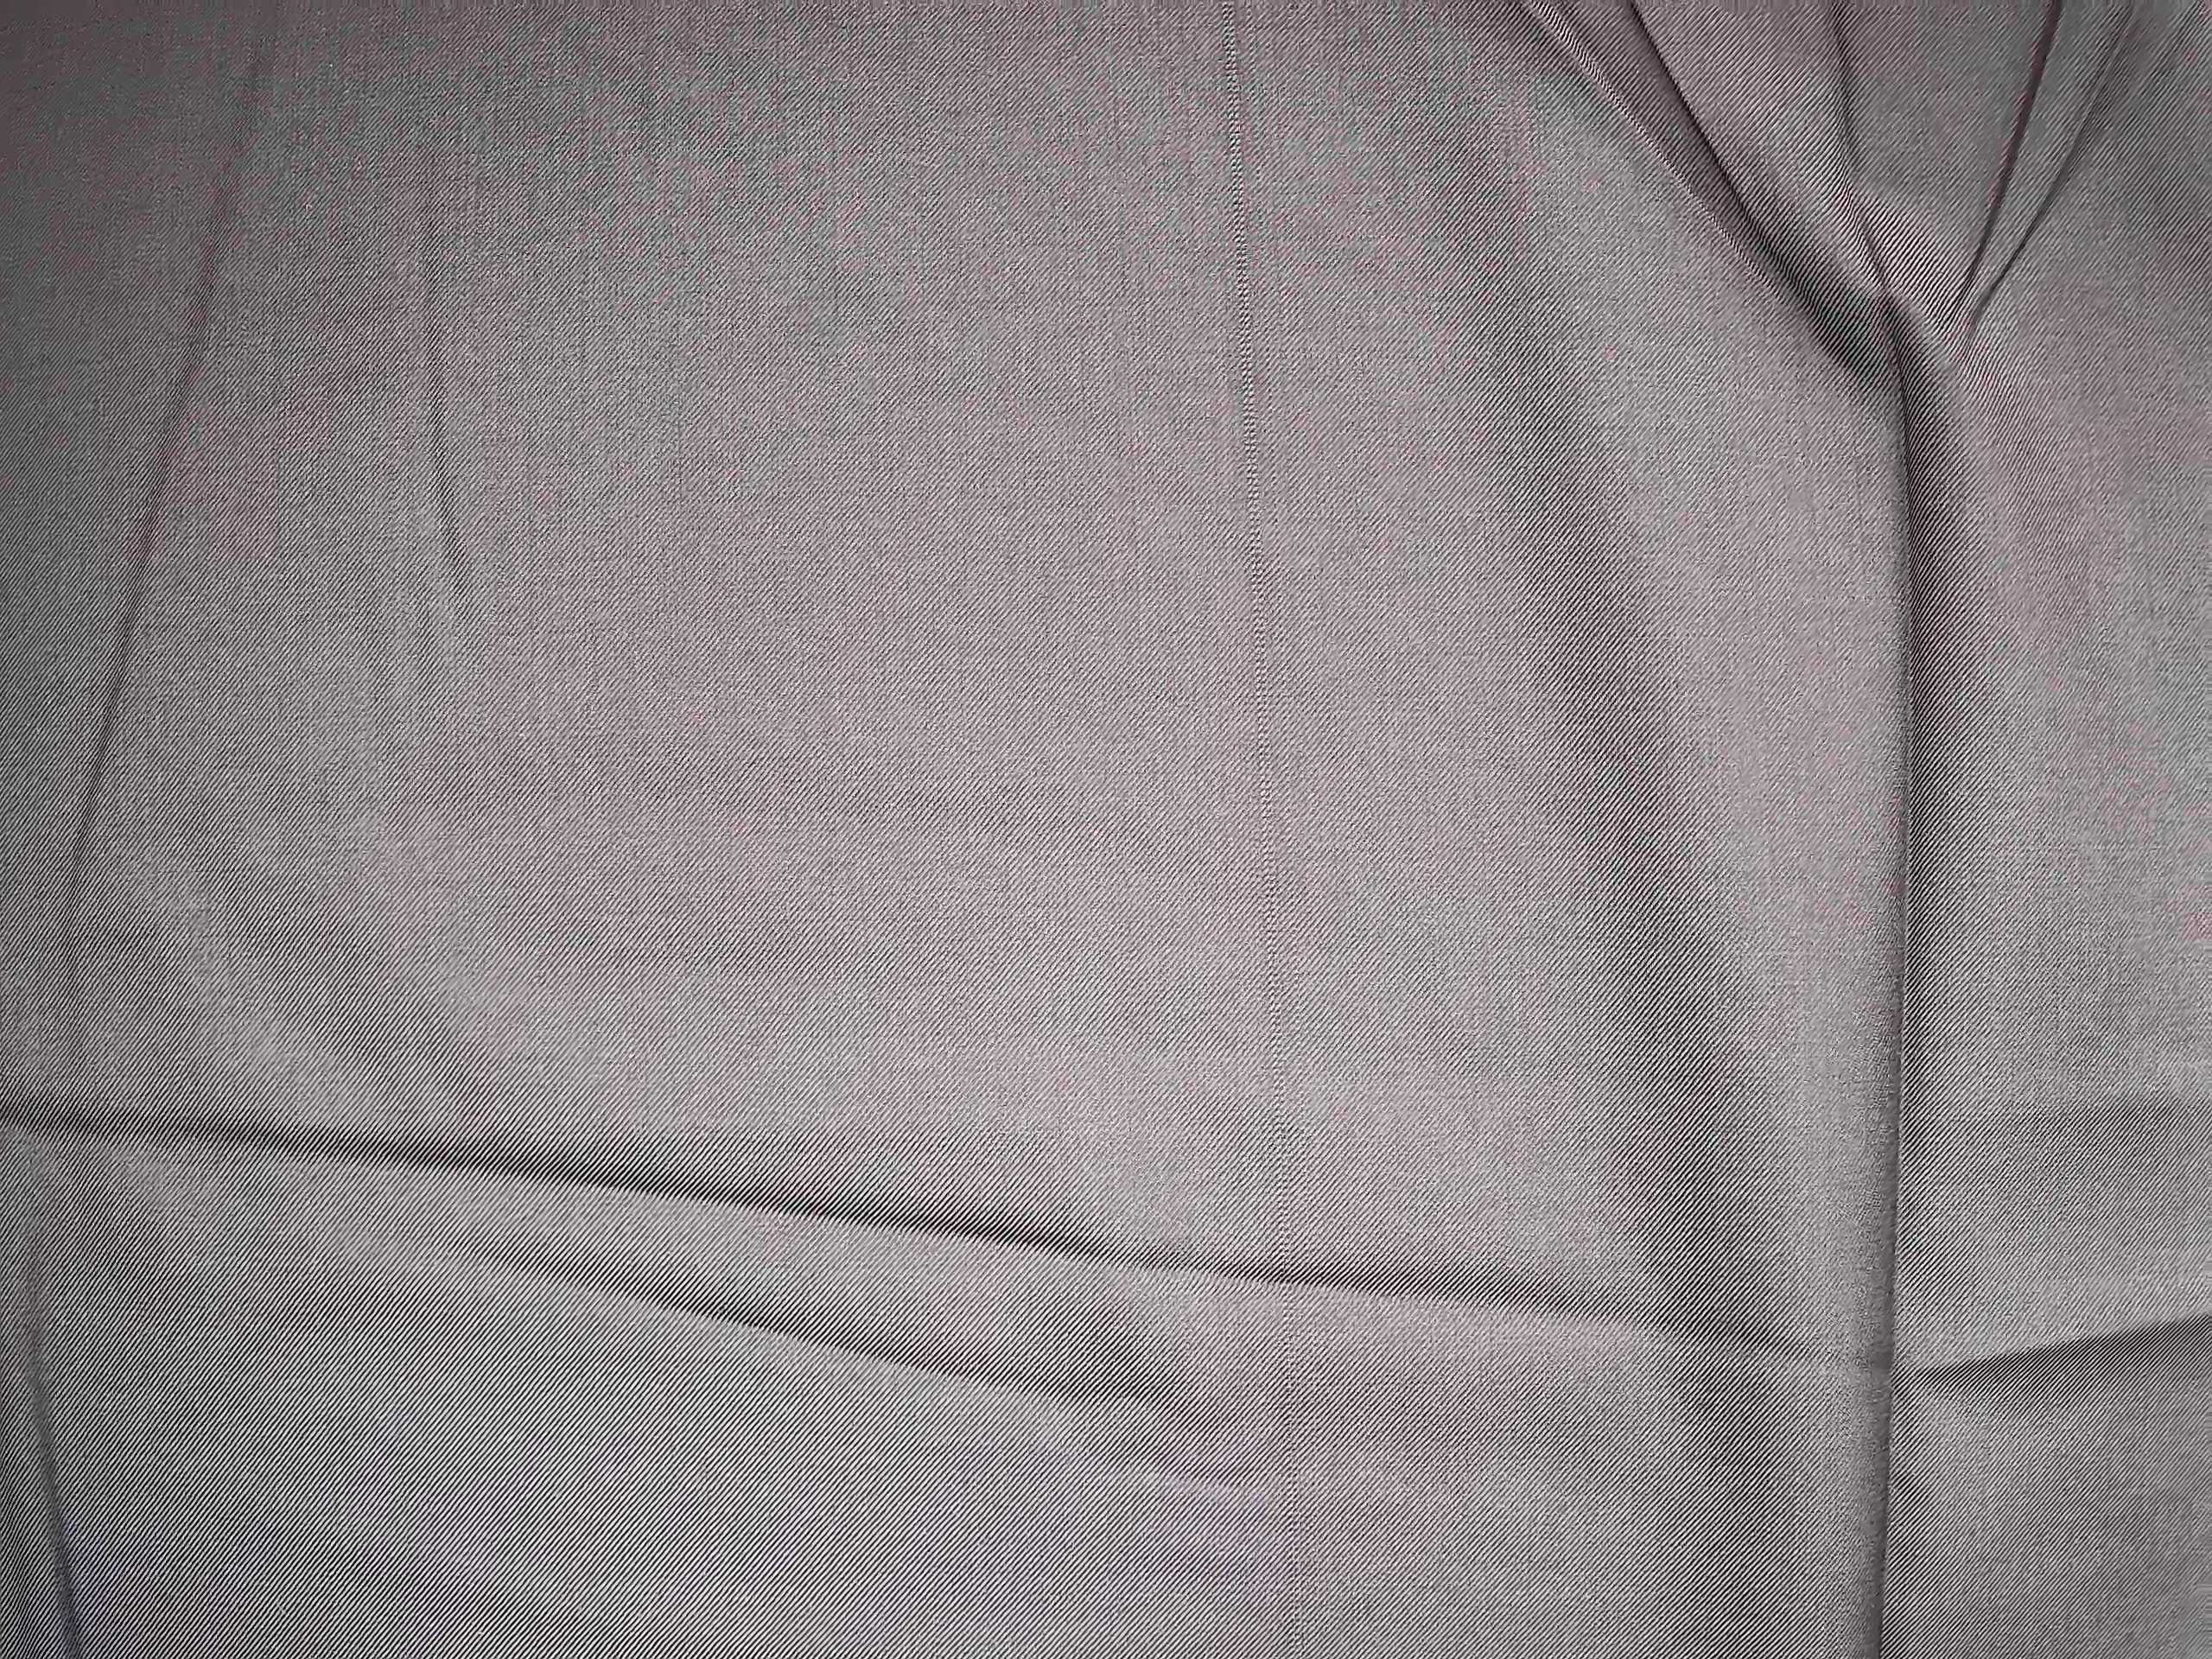hanging-warp: (1204, 9, 1327, 1647)
